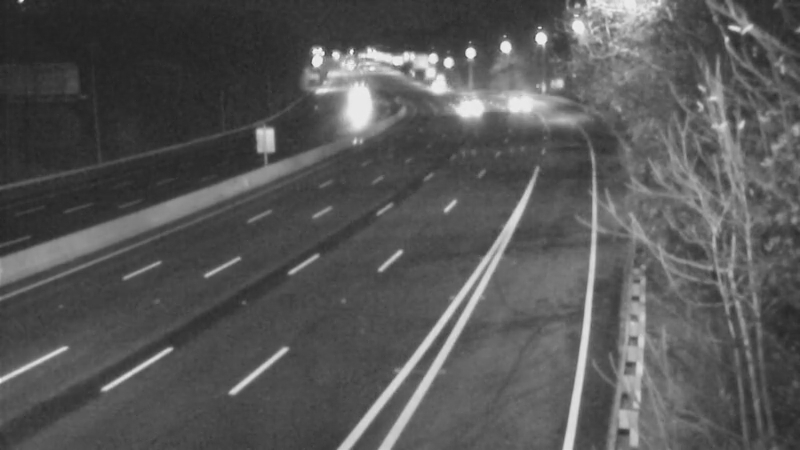vehicle: (411, 62, 461, 112), (490, 81, 540, 131), (440, 81, 490, 131), (331, 77, 381, 127)
